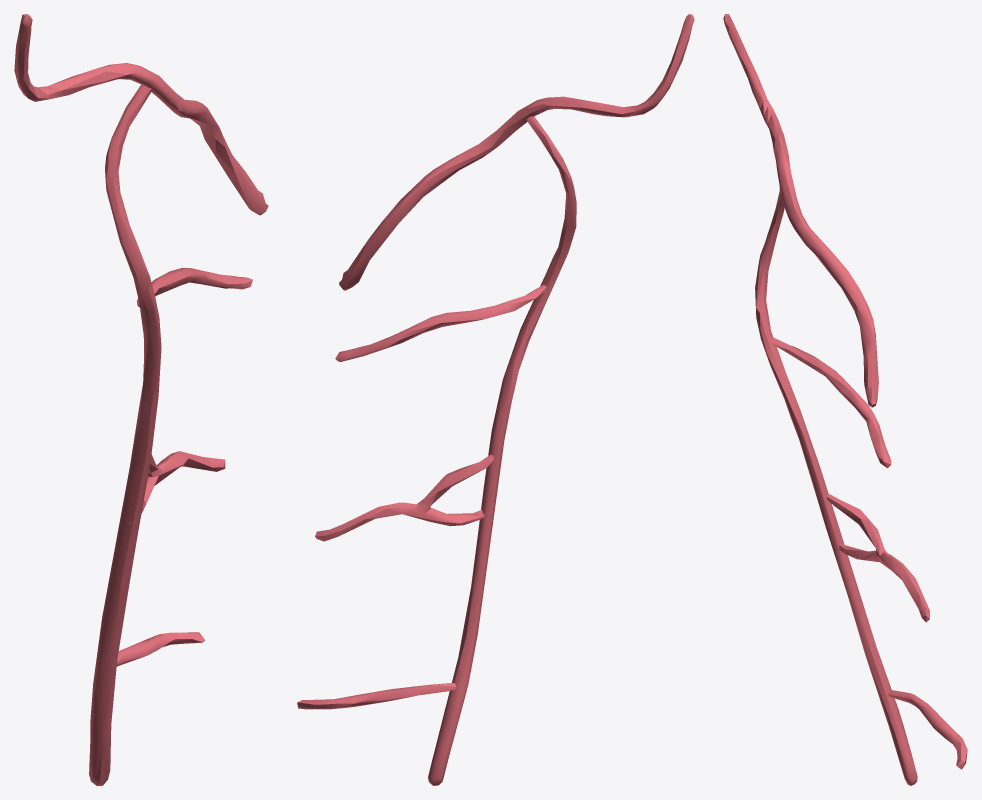
Rendered from fma51393_cx114.glb.
The picture shows the model from 3 angles, left to right: view 1: azimuth 30°, elevation 25°; view 2: azimuth 150°, elevation 25°; view 3: azimuth 270°, elevation 25°; orthographic projection. The views are drawn at different scales.
Parts seen in each view (by area): view 1: FMA51393_CX114; view 2: FMA51393_CX114; view 3: FMA51393_CX114.
Boxes of the visible parts, <box> form: FMA51393_CX114: <box>14,14,268,785</box>; FMA51393_CX114: <box>297,14,694,785</box>; FMA51393_CX114: <box>723,14,967,785</box>.
Size of the model in its own units: 0.0157 by 0.0398 by 0.0126.
